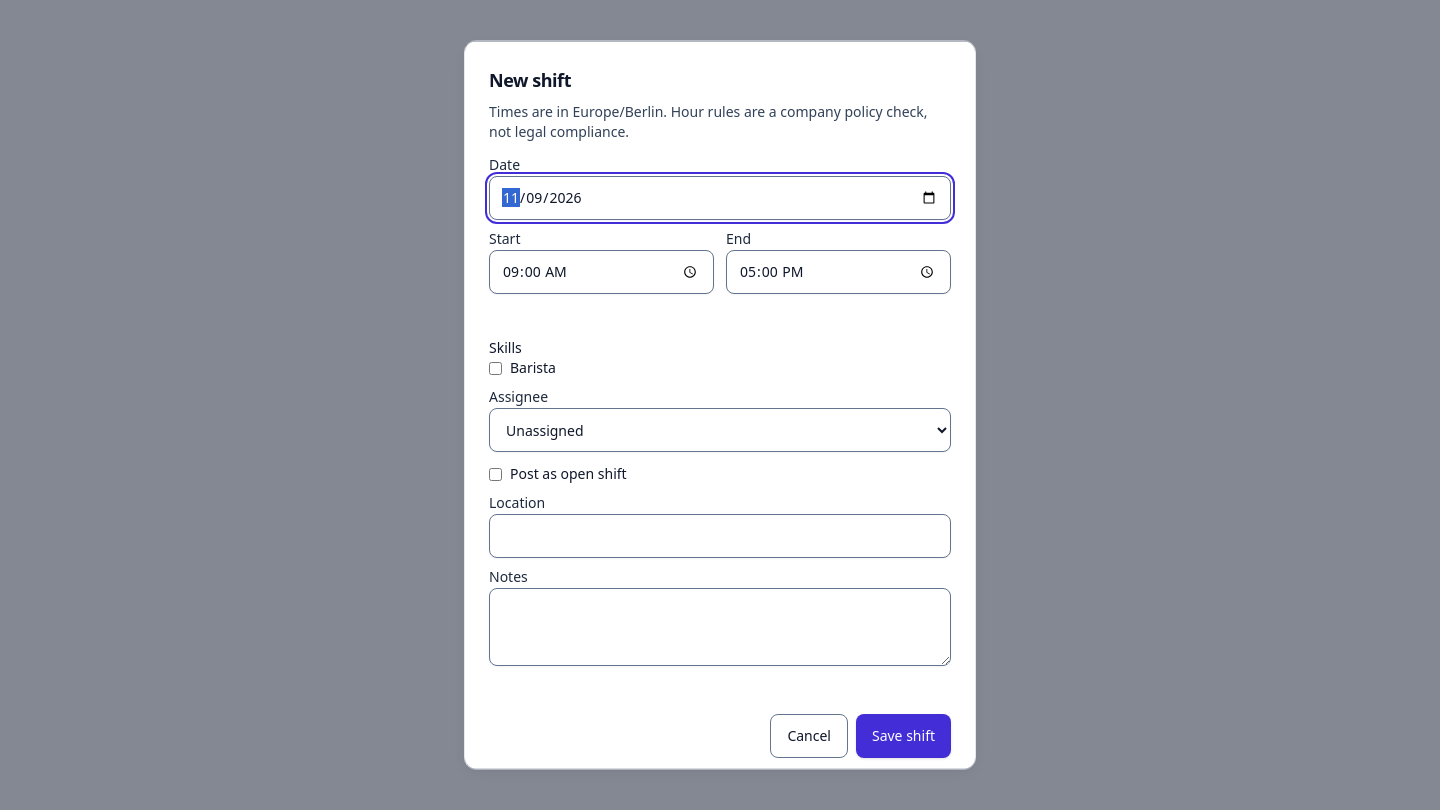
Scenario: ShiftDialog › hides "Post as open shift" once an assignee is chosen
The width and height of the screenshot is (1440, 810).
Select "Anna Beck" in the dropdown labelled "Assignee": [720, 430] box [489,408,951,452]
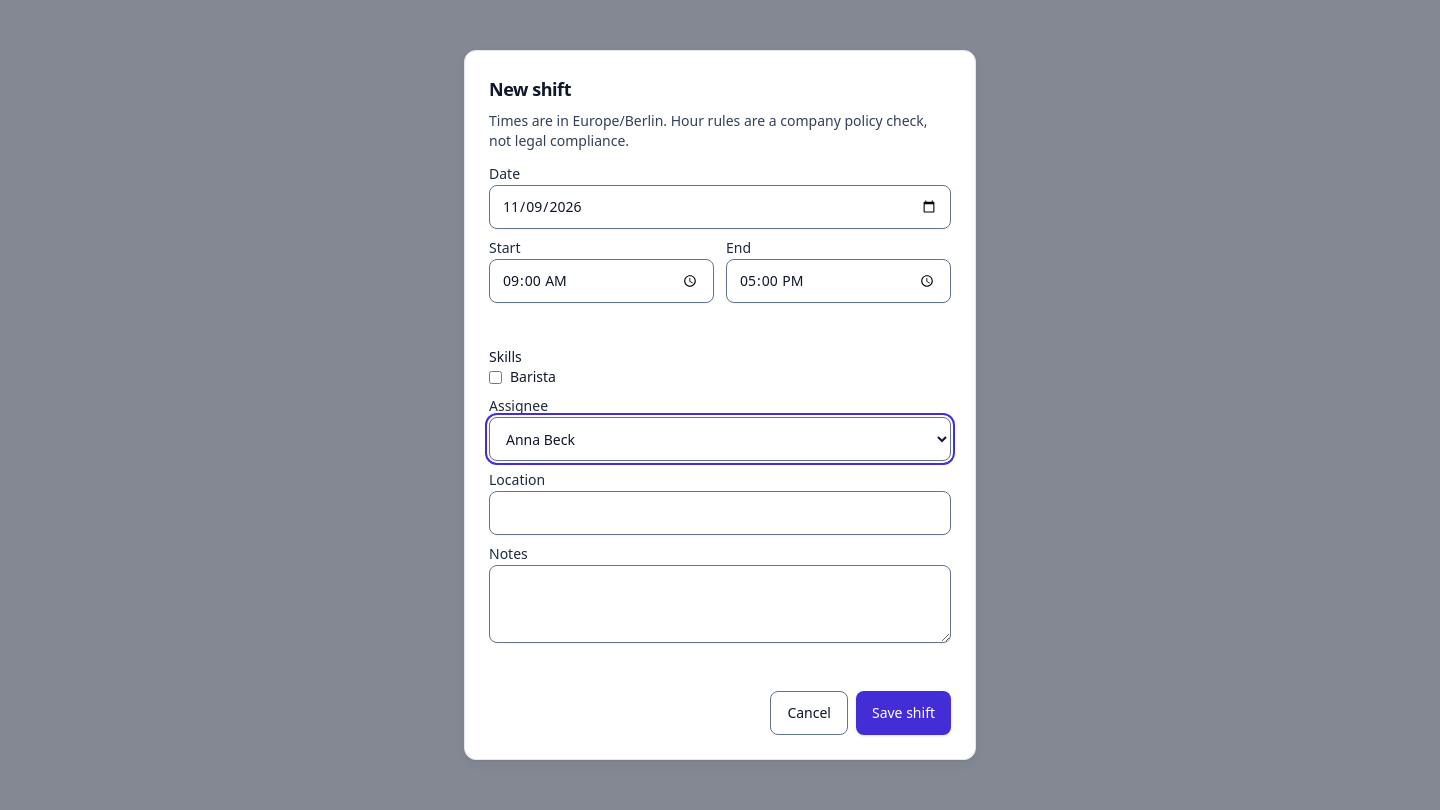
Check: the label "Post as open shift" is gone
